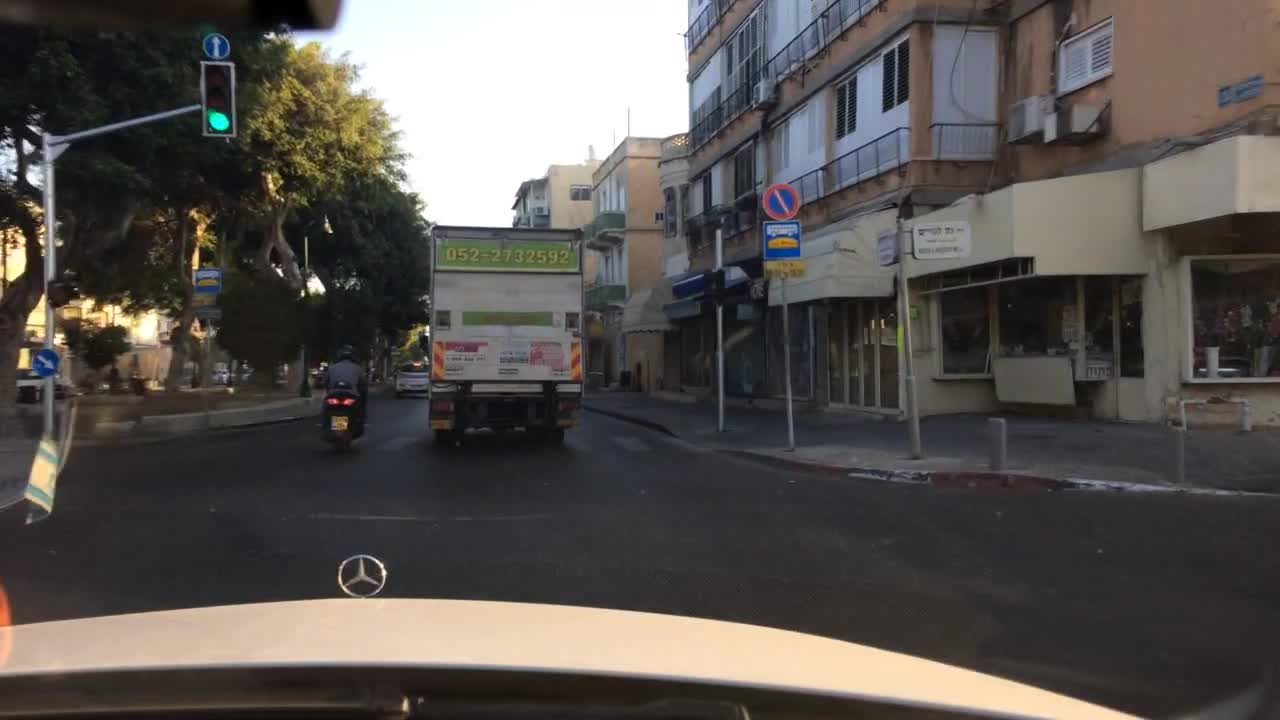car: (15, 367, 72, 397), (394, 360, 432, 397), (93, 372, 142, 393), (209, 369, 232, 383)
motor: (321, 380, 364, 450)
rider: (317, 344, 373, 435)
traffic light: (199, 59, 237, 137), (48, 278, 82, 307), (703, 268, 725, 306), (735, 195, 759, 229)
traffic sign: (760, 183, 803, 219), (763, 220, 801, 260), (29, 348, 62, 373), (201, 33, 231, 58), (763, 262, 807, 279), (194, 268, 222, 293), (190, 295, 217, 307)
truck: (426, 223, 584, 446)
